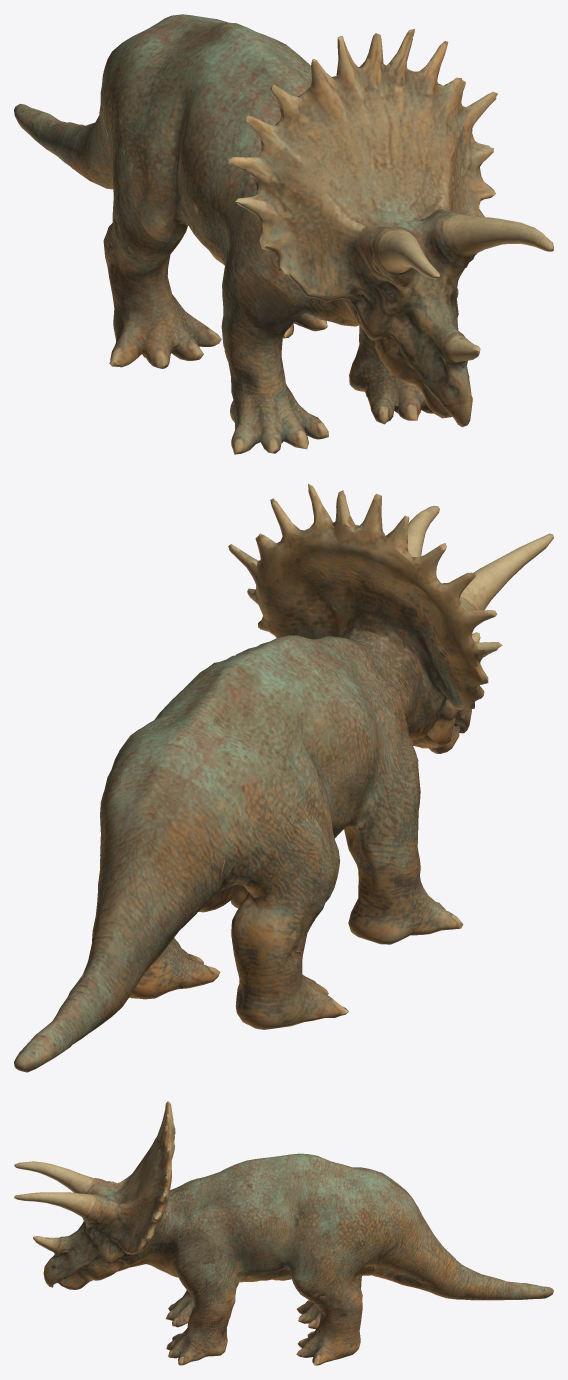
Rendered from triceratops_parado.glb.
3 views of the same model, one above another, from view 1: azimuth 30°, elevation 25°; view 2: azimuth 150°, elevation 25°; view 3: azimuth 270°, elevation 25° (orthographic). The views are drawn at different scales.
Parts seen in each view (by area): view 1: Object_2_fixo; view 2: Object_2_fixo; view 3: Object_2_fixo.
Boxes of the visible parts, x1,y1,x2,y2 form: Object_2_fixo: (14, 14, 553, 454); Object_2_fixo: (14, 483, 553, 1072); Object_2_fixo: (14, 1101, 553, 1365).
Size of the model in its own units: 1.92 by 2.77 by 5.92.
Materials: 1 (1 with a texture image).
